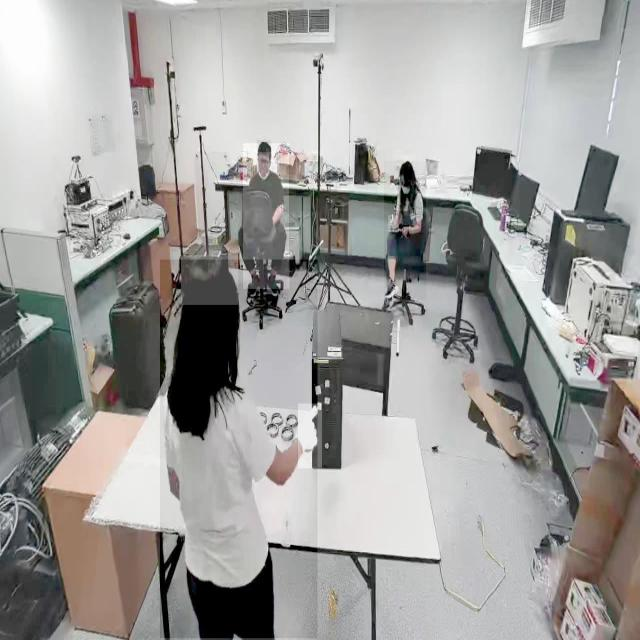face_mask: (401, 181, 411, 202)
face_nomask: (258, 154, 270, 174)
hand_glove: (298, 404, 322, 468)
hand_noglove: (388, 215, 399, 229), (399, 225, 409, 237)
head_nohelmet: (181, 255, 239, 306), (398, 160, 414, 176), (257, 140, 271, 153)
person: (160, 260, 318, 639), (243, 143, 289, 289), (384, 161, 426, 300)
shoes: (266, 267, 281, 301), (247, 268, 260, 300), (384, 274, 399, 299)
